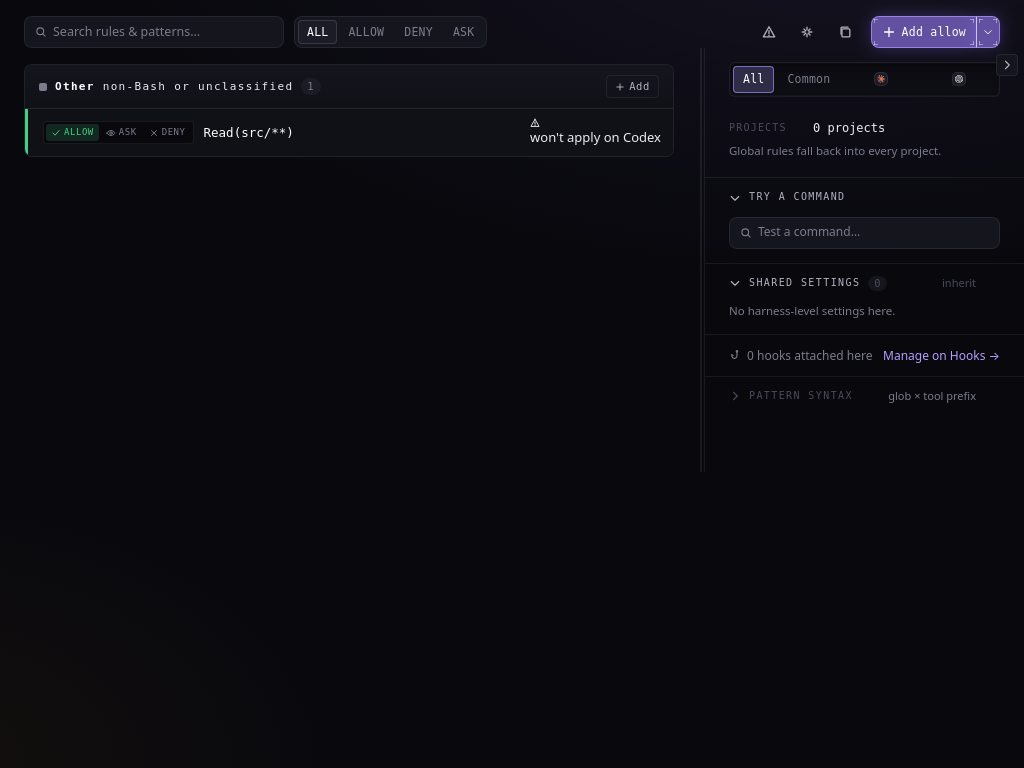
Test: PermissionsSidePanel — harness selector › the tab strip filters the rule list AND switches the panel view (a)
Expected: the field showing "Read(src/**)" is shown, x1=204 y1=124 x2=479 y2=142
Click the button named "Codex" at (959, 79), box x1=921 y1=67 x2=996 y2=91
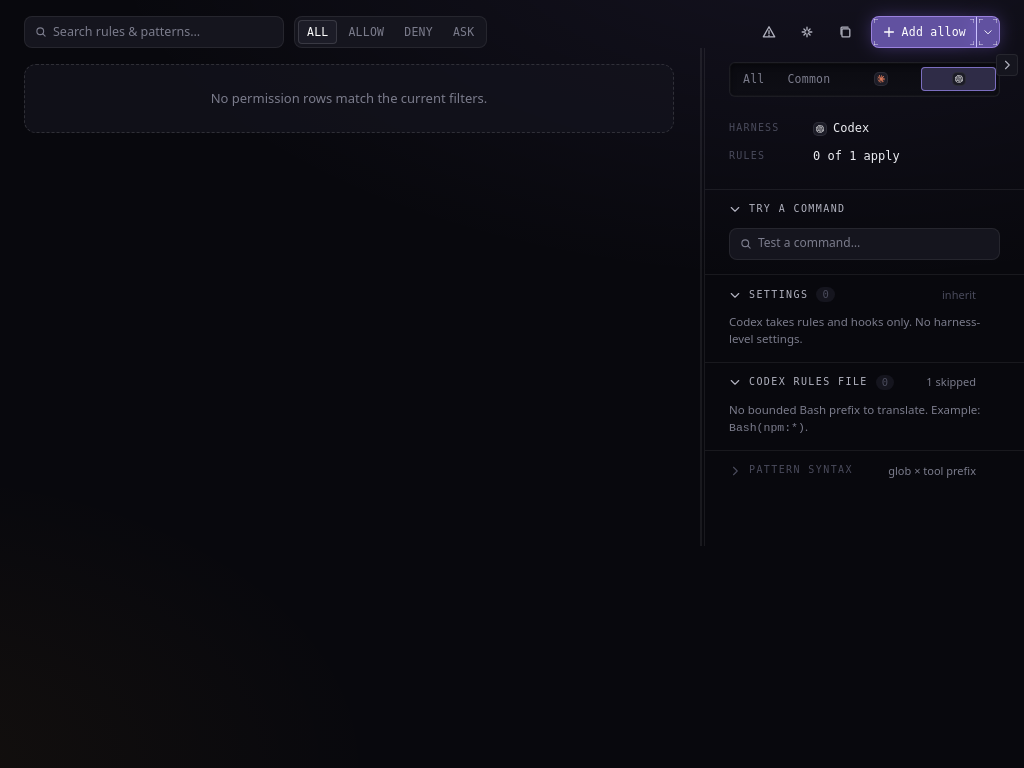
Expected: the field showing "Read(src/**)" is not shown
Now the text with test id "perm-side-harness-name" reads "Codex", box x1=833 y1=121 x2=869 y2=135
